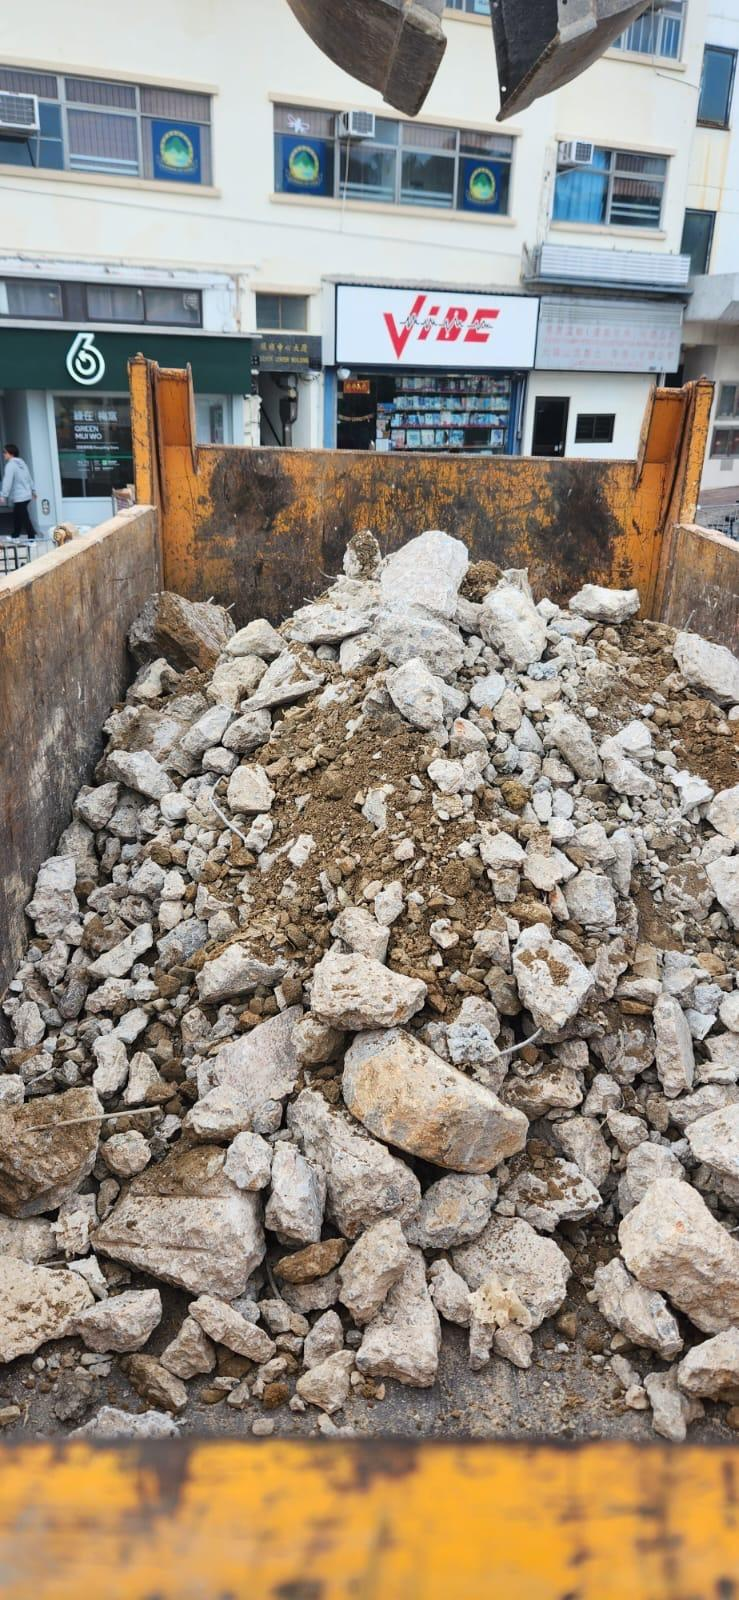dry: (65, 583, 728, 1443)
